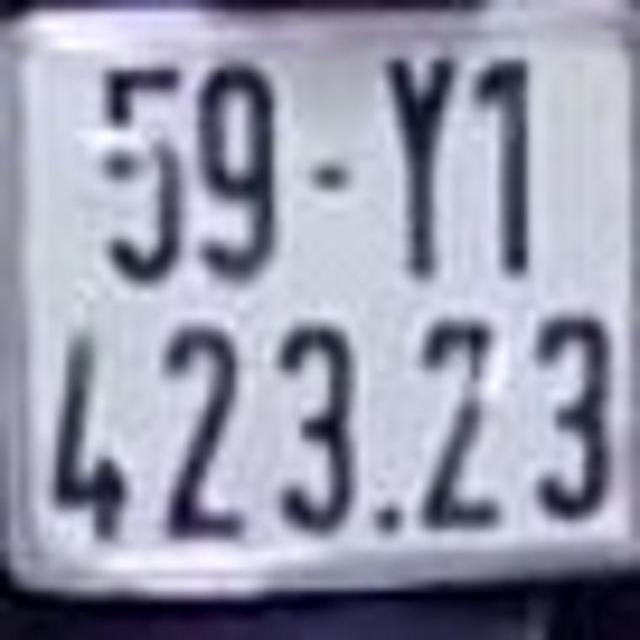1: (471, 51, 542, 276)
2: (158, 320, 247, 541), (419, 312, 501, 530)
3: (274, 317, 355, 536), (531, 309, 613, 522)
4: (47, 326, 133, 546)
5: (100, 61, 186, 284)
9: (195, 58, 278, 285)
Y: (381, 48, 461, 277)
